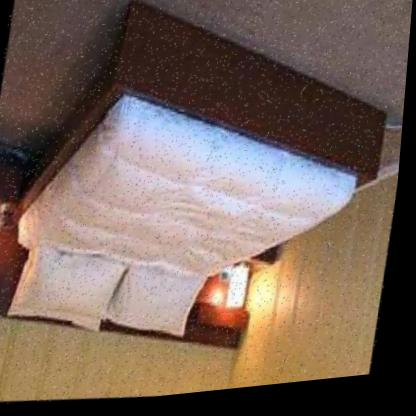Bed: (0, 0, 412, 378)
